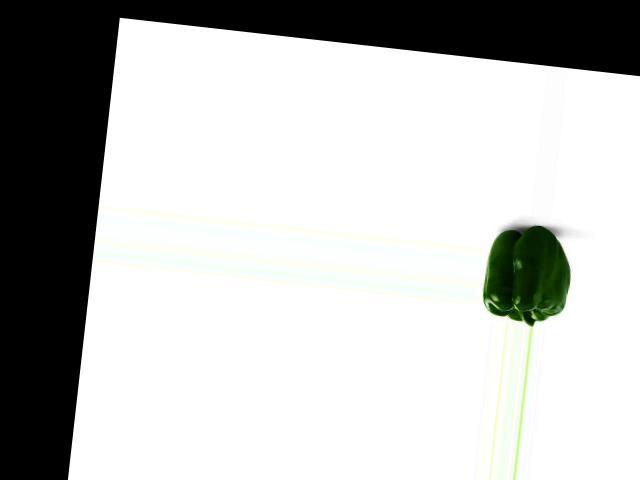bell_pepper: (478, 223, 577, 328)
